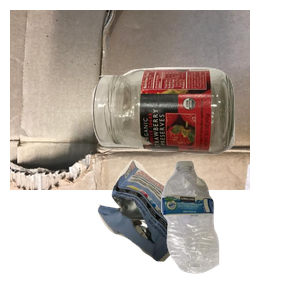cardboard: (10, 10, 250, 190)
glass: (89, 65, 300, 212)
plastic: (159, 158, 300, 300)
trash: (95, 157, 282, 300)
